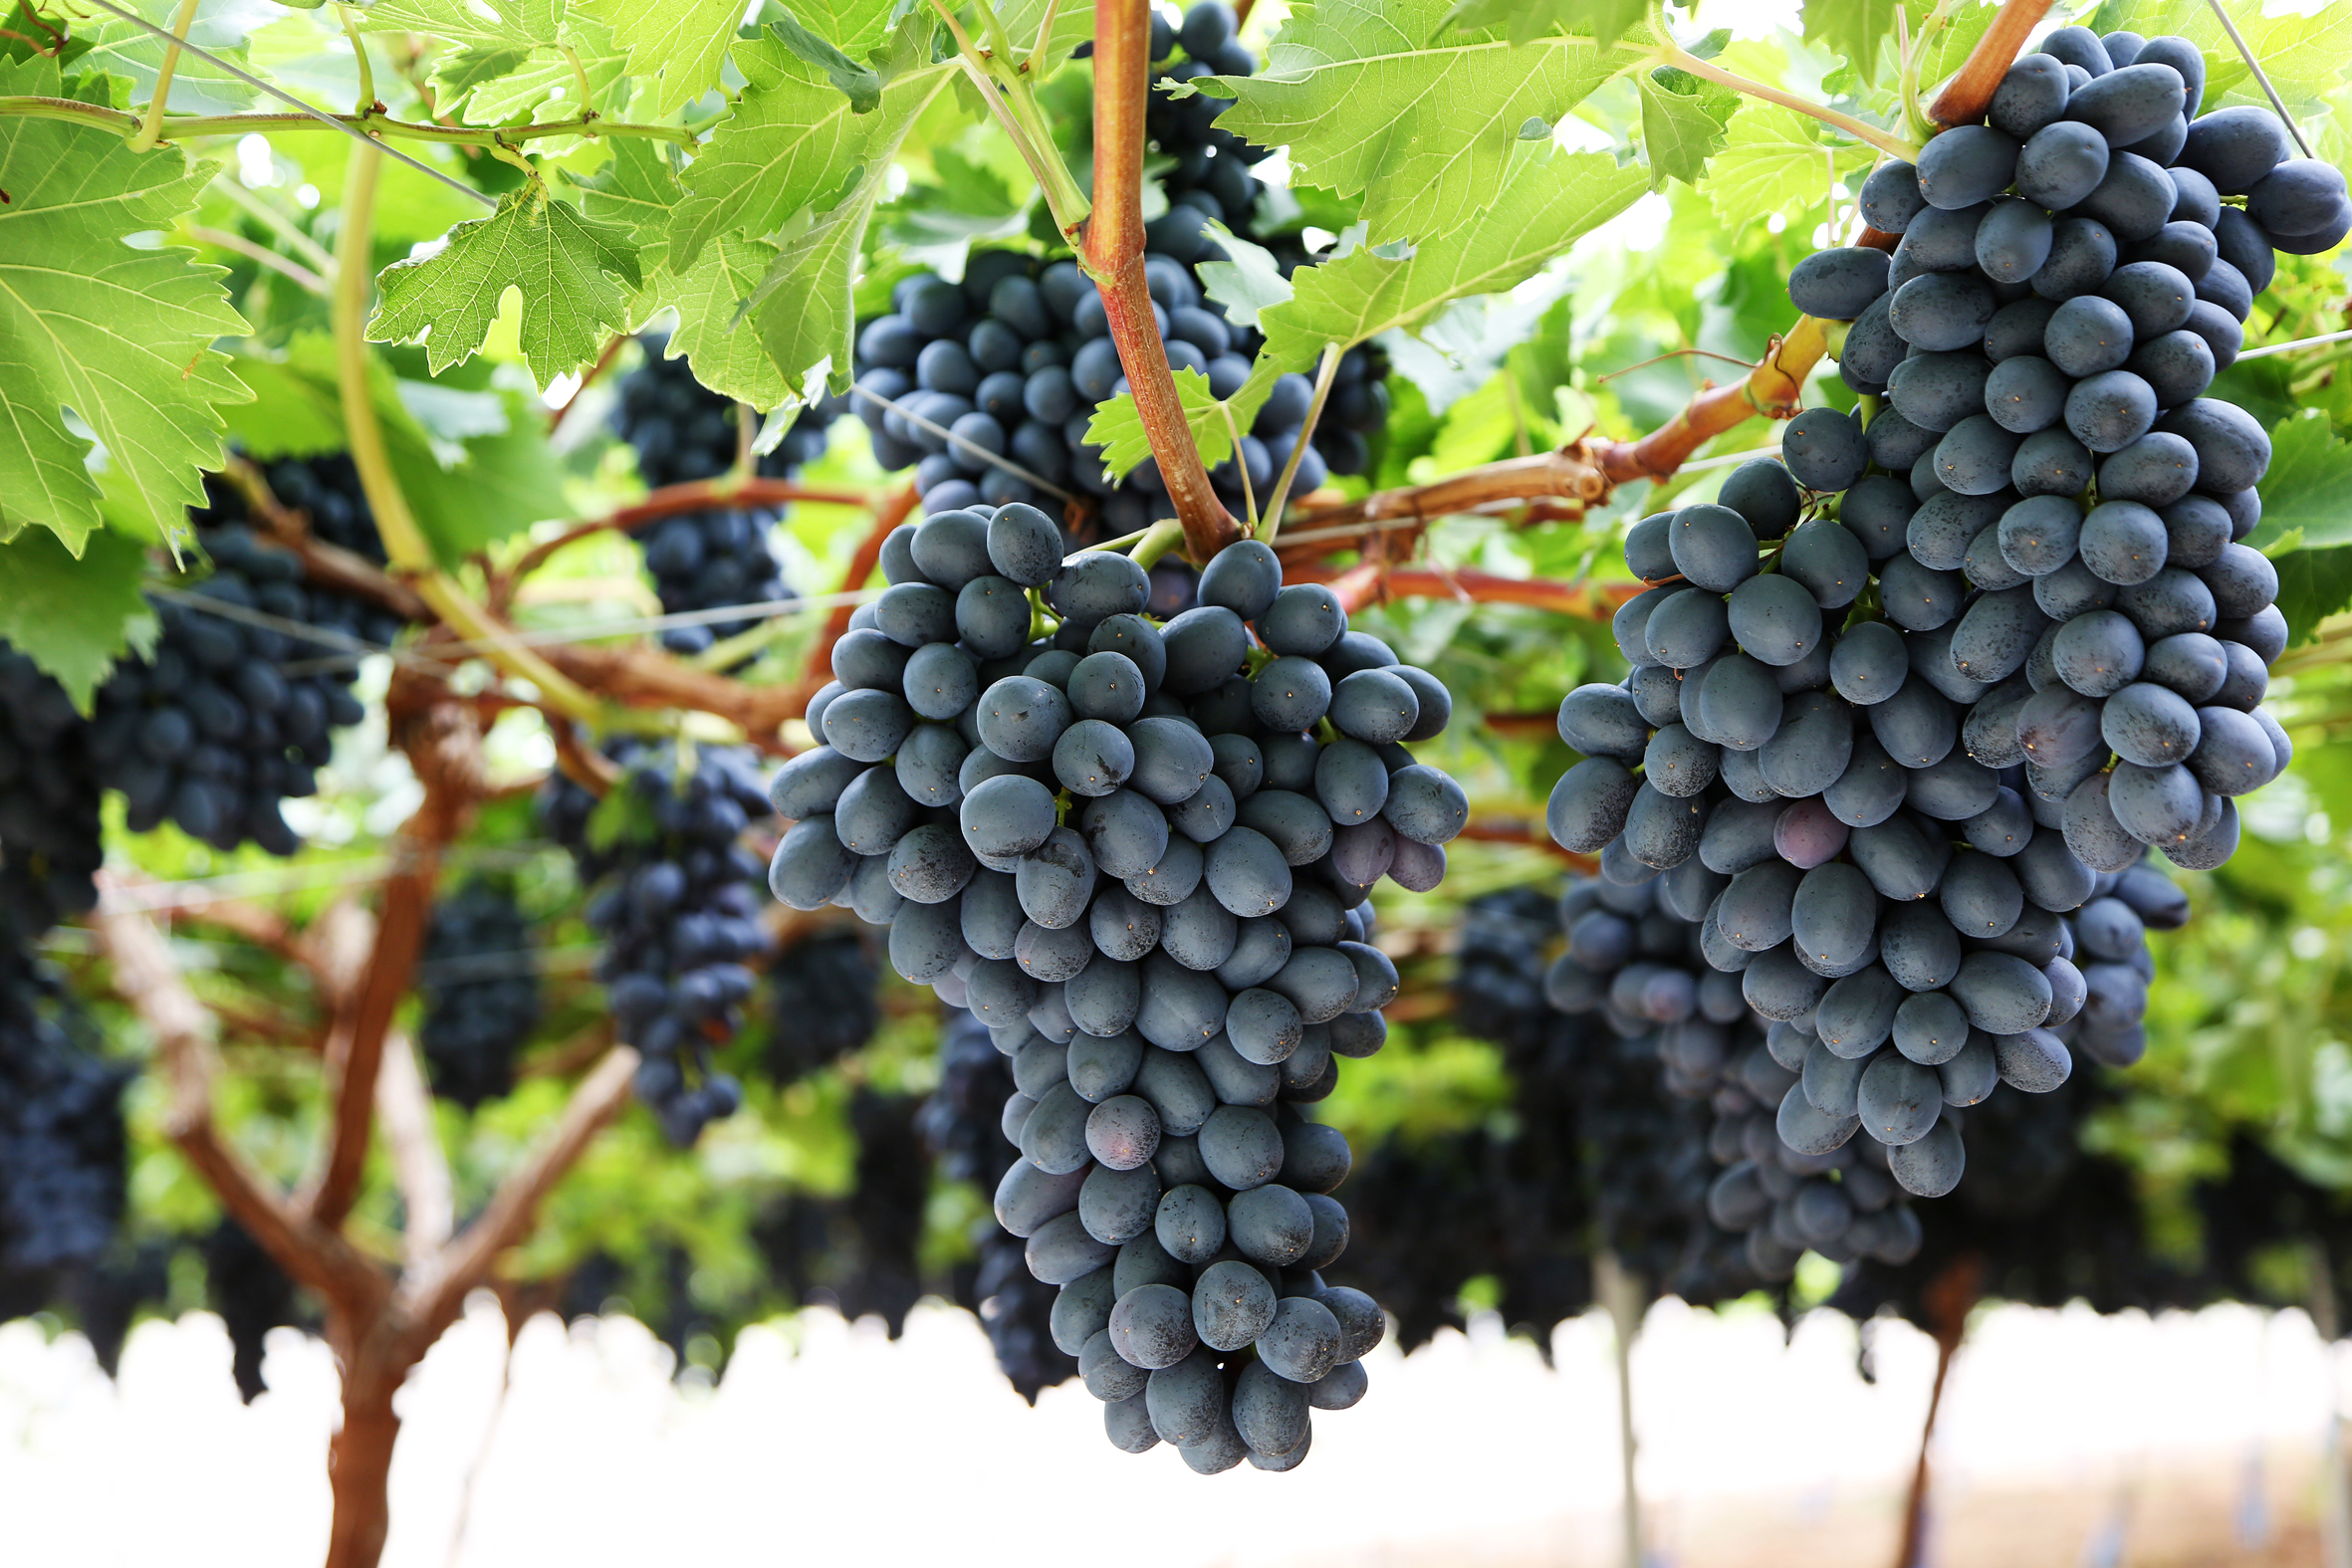Black grapes: (812, 495, 1437, 1487), (1486, 451, 2103, 1297), (1797, 49, 2322, 894), (66, 355, 388, 885), (847, 234, 1349, 537), (537, 675, 780, 1165)
